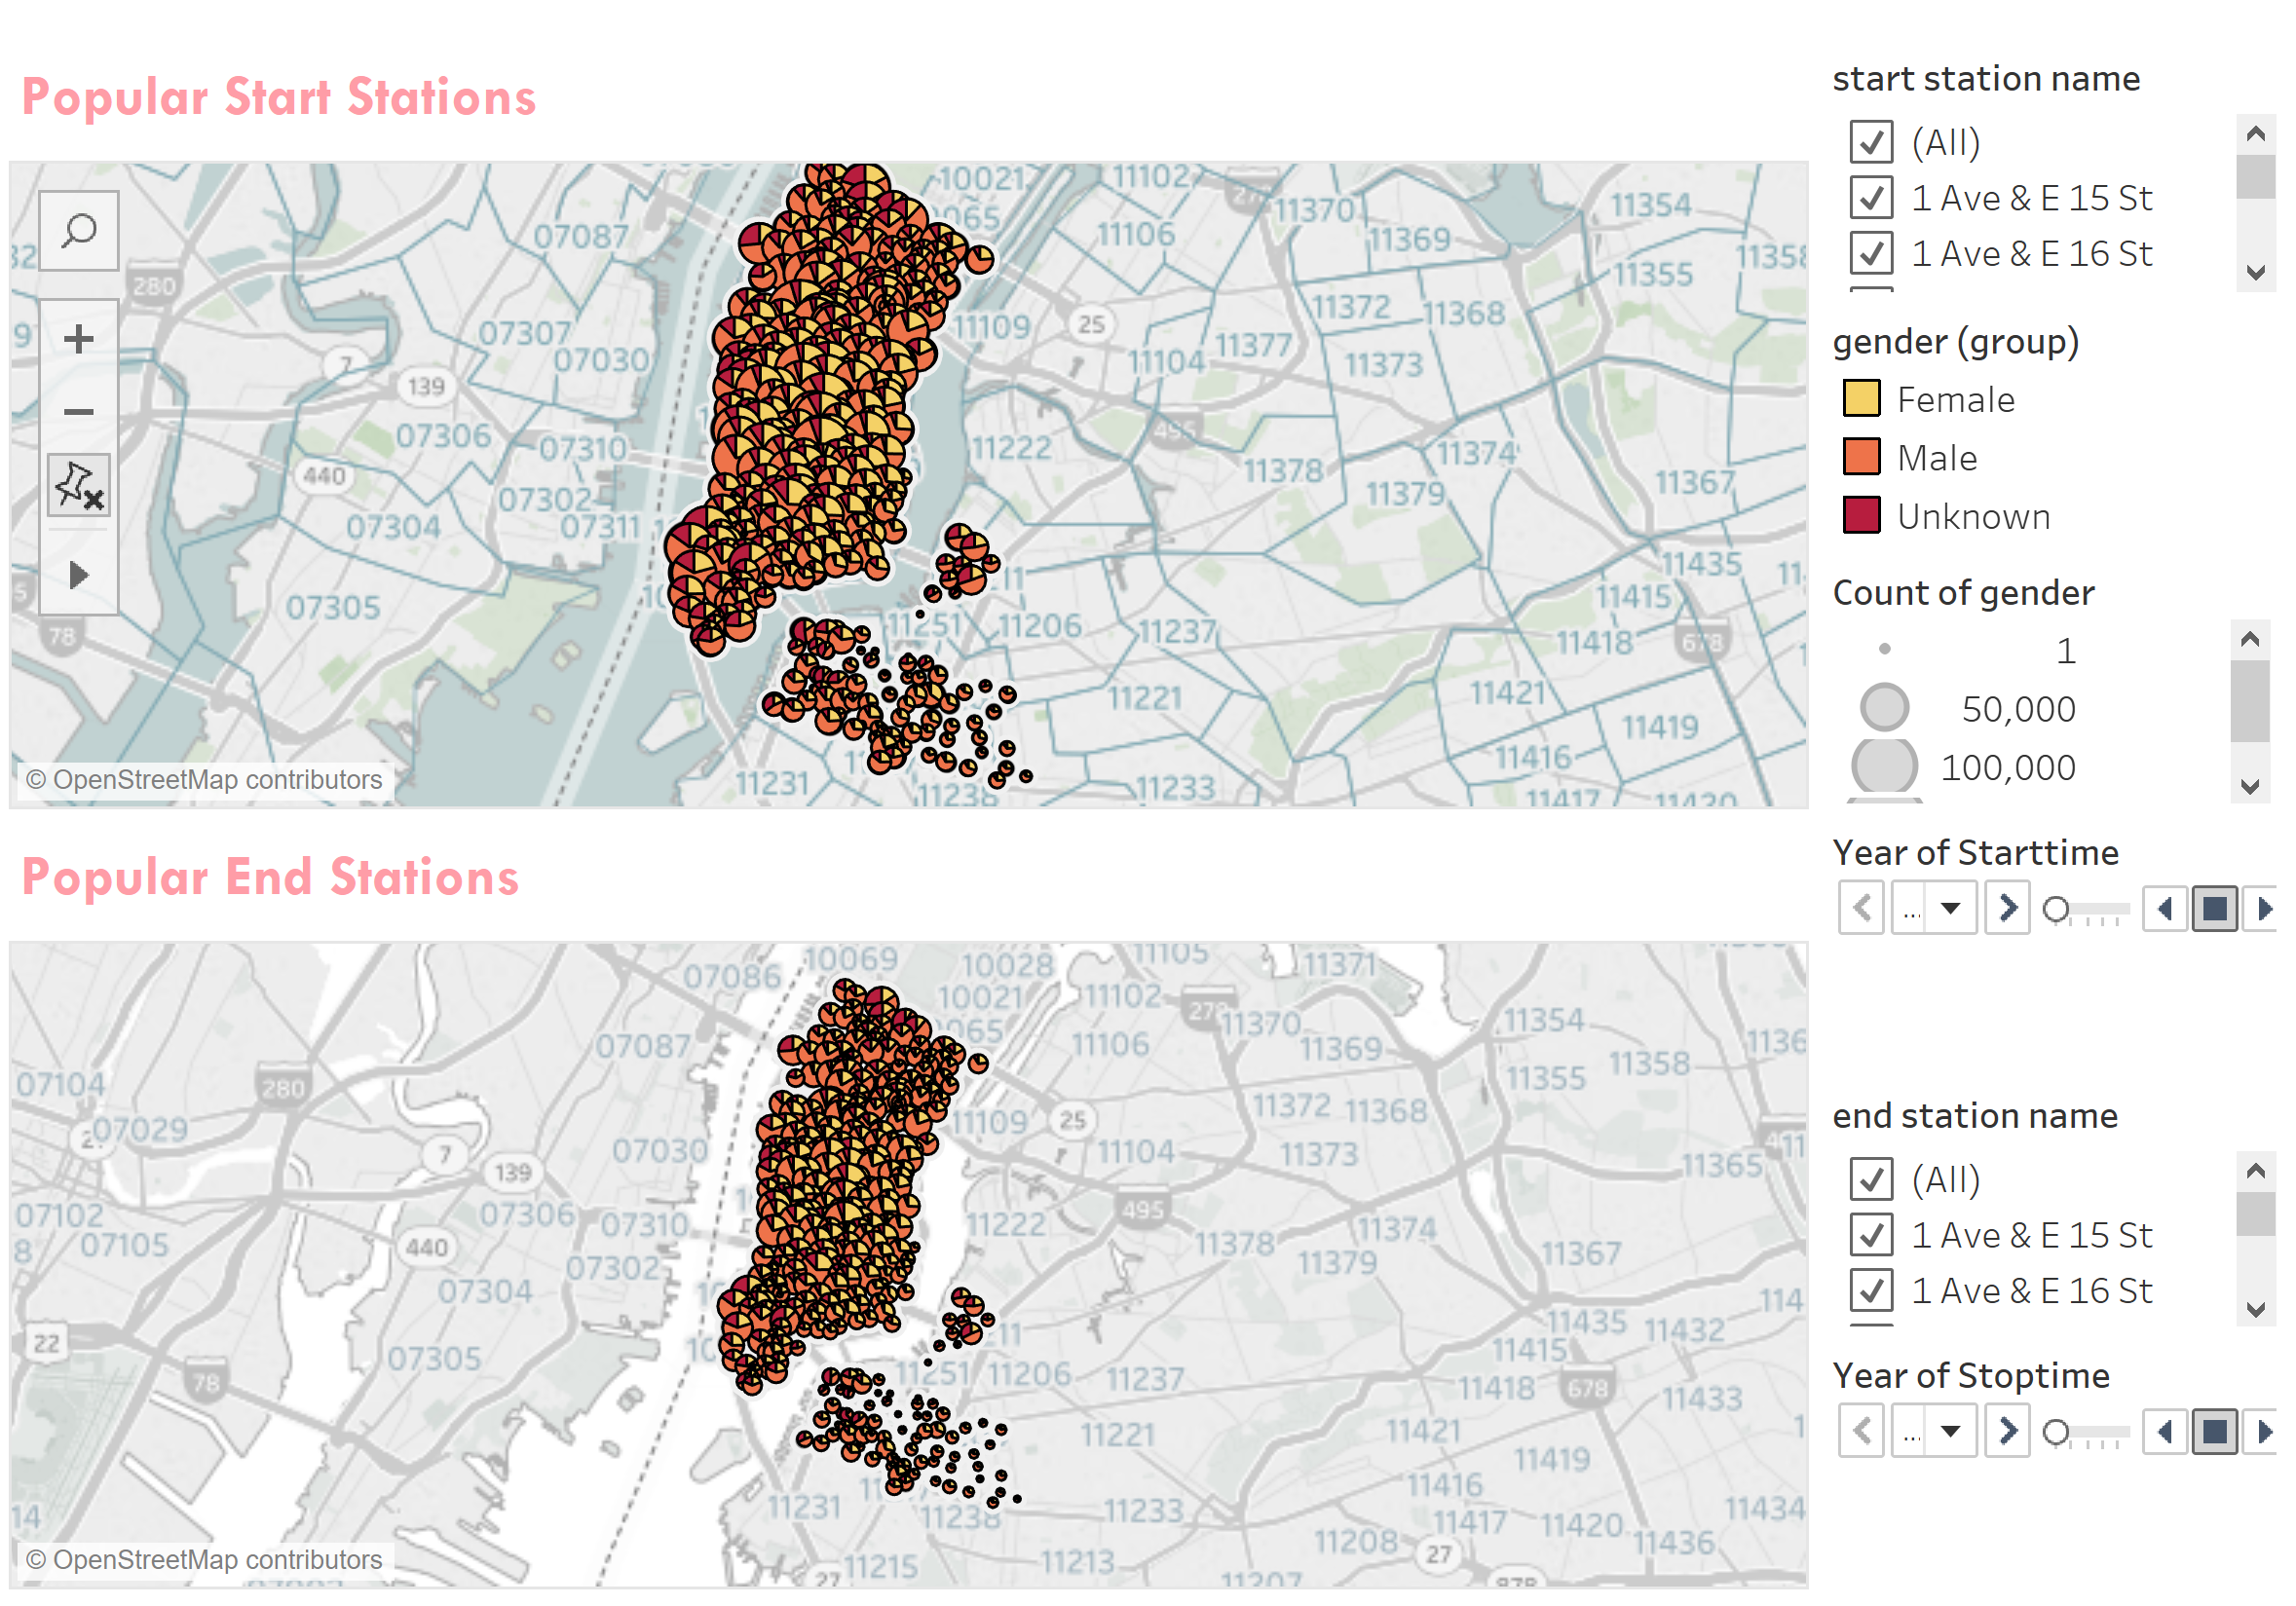

Layout of this report page (visuals, bound fields, positions):
{"tool":"tableau","page":{"name":"Dashboard 4","canvas":[1000,800],"ordinal":3},"visuals":[{"type":"worksheet","title":"Sheet 6","mark":"Automatic","rows":["start station id"],"cols":["Calculation_1600748252908560384","start station name"],"box":[8,8,412,392]},{"type":"worksheet","title":"Sheet 7","mark":"Automatic","rows":["end station id"],"cols":["Calculation_1600748252908560384","end station name"],"box":[420,8,412,392]},{"type":"filter","title":"Sheet 6","param":"[federated.0o6bcyj08k7vi61bhyd3708n9wq9].[yr:starttime:ok]","box":[832,8,160,136]},{"type":"legend","title":"Sheet 6","param":"[federated.0o6bcyj08k7vi61bhyd3708n9wq9].[cnt:start station id:qk]","box":[832,144,160,65]},{"type":"currpage","title":"Sheet 6","box":[832,209,160,110]},{"type":"filter","title":"Sheet 6 (1)","param":"[federated.0o6bcyj08k7vi61bhyd3708n9wq9].[yr:starttime:ok]","box":[832,319,160,136]},{"type":"worksheet","title":"Sheet 6 (1)","mark":"Automatic","rows":["start station id"],"cols":["Calculation_1600748252908560384","start station name"],"box":[8,400,412,392]},{"type":"worksheet","title":"Sheet 7 (1)","mark":"Automatic","rows":["end station id"],"cols":["Calculation_1600748252908560384","end station name"],"box":[420,400,412,392]},{"type":"filter","title":"Sheet 7","param":"[federated.0o6bcyj08k7vi61bhyd3708n9wq9].[yr:starttime:ok]","box":[832,455,160,136]},{"type":"legend","title":"Sheet 7","param":"[federated.0o6bcyj08k7vi61bhyd3708n9wq9].[cnt:end station id:qk]","box":[832,591,160,65]},{"type":"filter","title":"Sheet 7 (1)","param":"[federated.0o6bcyj08k7vi61bhyd3708n9wq9].[yr:starttime:ok]","box":[832,656,160,136]}]}

Visuals, with their boxes on the page's 1000x800 design canvas (x1, y1, x2, y2). These are canvas units, not pixel positions in the 2296x1606 screenshot, which may show the page scaled, cropped or inside an application window:
"Sheet 6" worksheet: box=[8, 8, 420, 400]
"Sheet 7" worksheet: box=[420, 8, 832, 400]
"Sheet 6" filter: box=[832, 8, 992, 144]
"Sheet 6" legend: box=[832, 144, 992, 209]
"Sheet 6" currpage: box=[832, 209, 992, 319]
"Sheet 6 (1)" filter: box=[832, 319, 992, 455]
"Sheet 6 (1)" worksheet: box=[8, 400, 420, 792]
"Sheet 7 (1)" worksheet: box=[420, 400, 832, 792]
"Sheet 7" filter: box=[832, 455, 992, 591]
"Sheet 7" legend: box=[832, 591, 992, 656]
"Sheet 7 (1)" filter: box=[832, 656, 992, 792]
